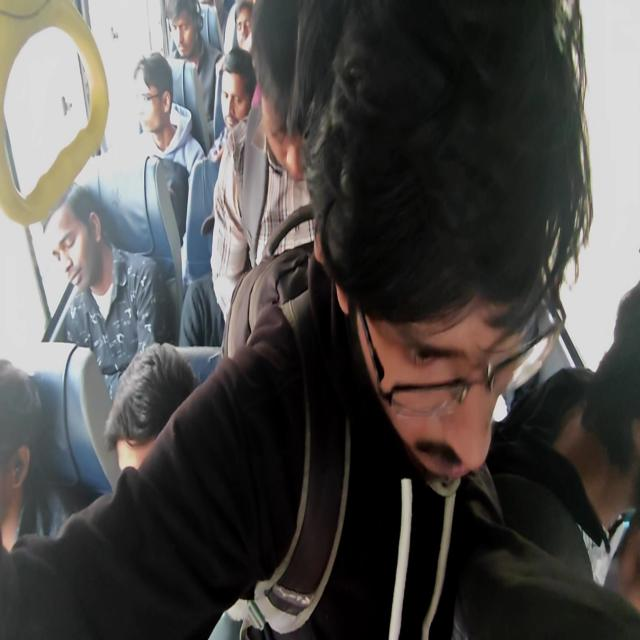person: (297, 10, 568, 477), (585, 281, 640, 628), (104, 376, 206, 558), (259, 18, 327, 192), (0, 380, 53, 540), (50, 185, 90, 337), (213, 75, 257, 160), (132, 47, 168, 124), (164, 0, 206, 45), (233, 3, 260, 47)
